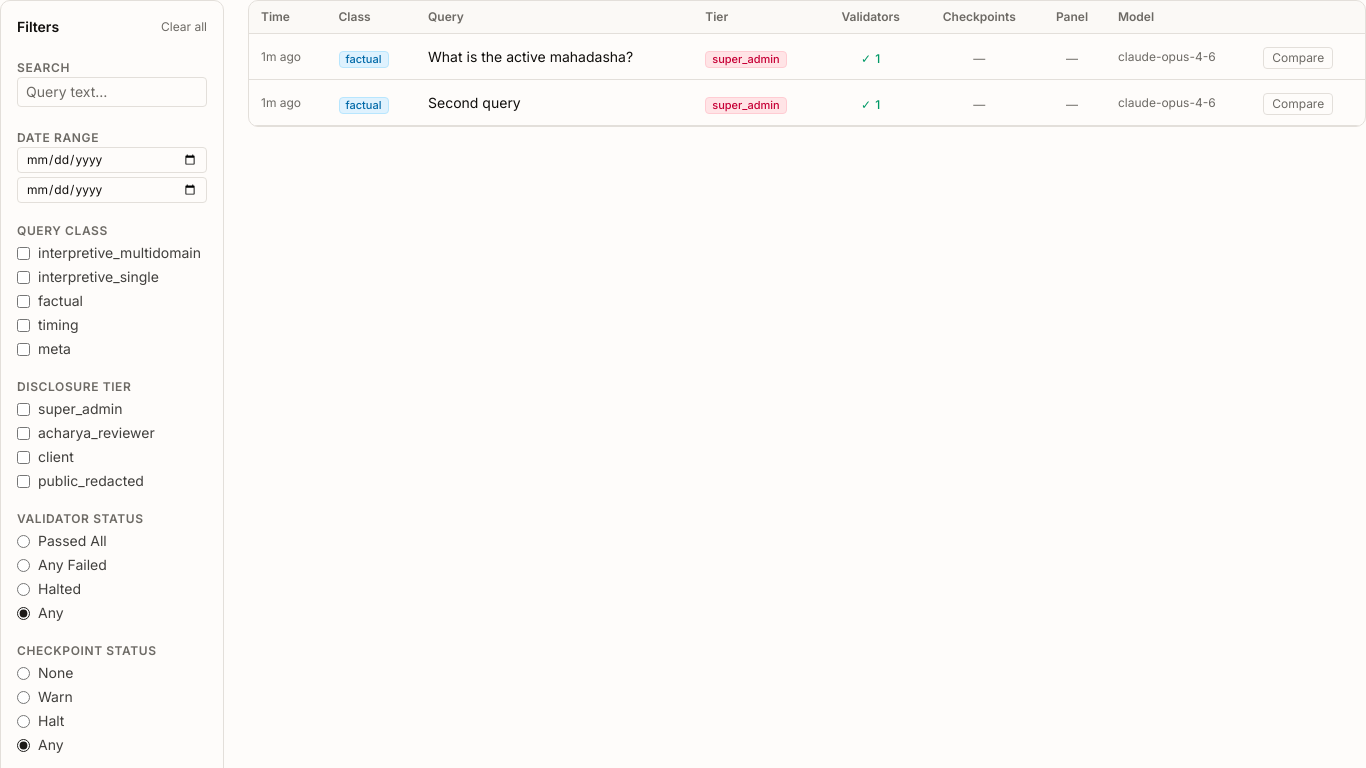
AuditListClient › clears compare selection when Clear clicked
Click the button with aria-label "Add to compare" at (1298, 58), box [1263,47,1333,69]
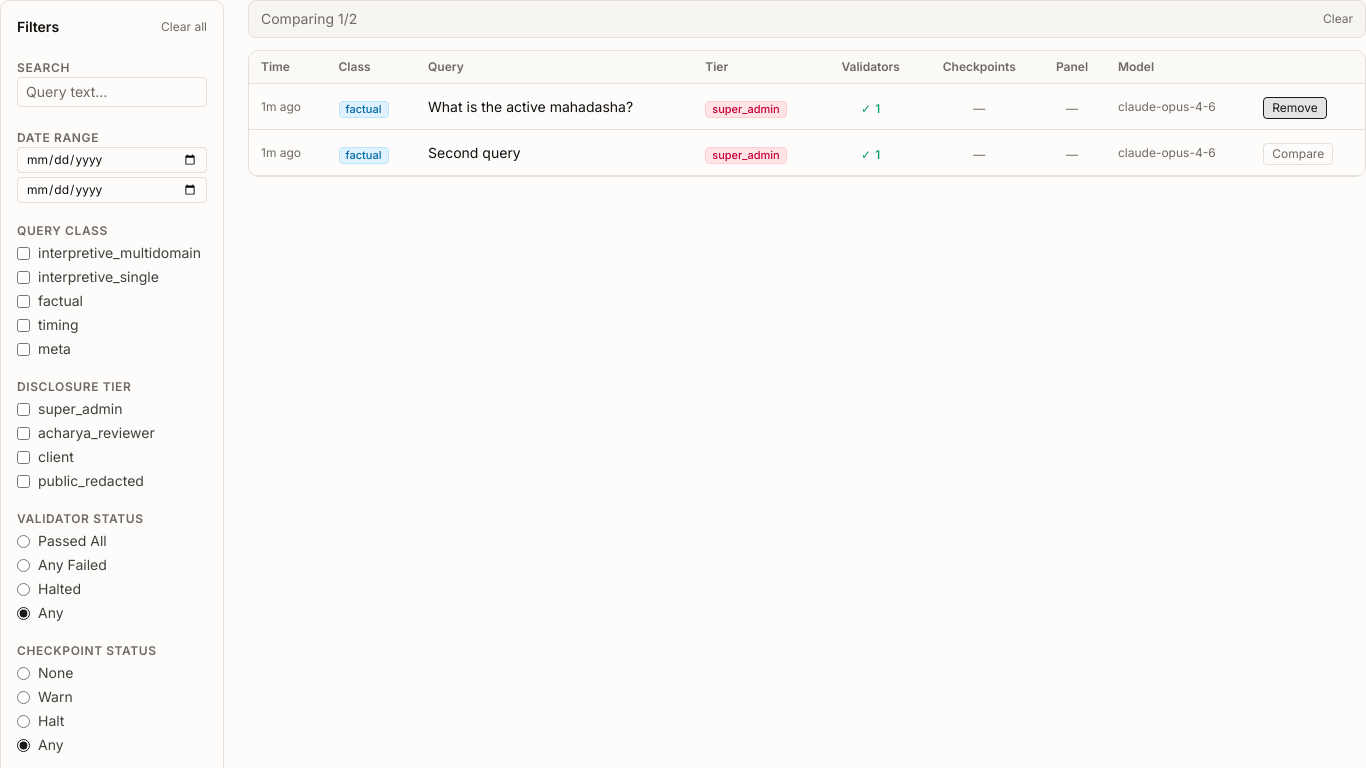
Click the button with aria-label "Add to compare" at (1298, 154), box [1263,143,1333,165]
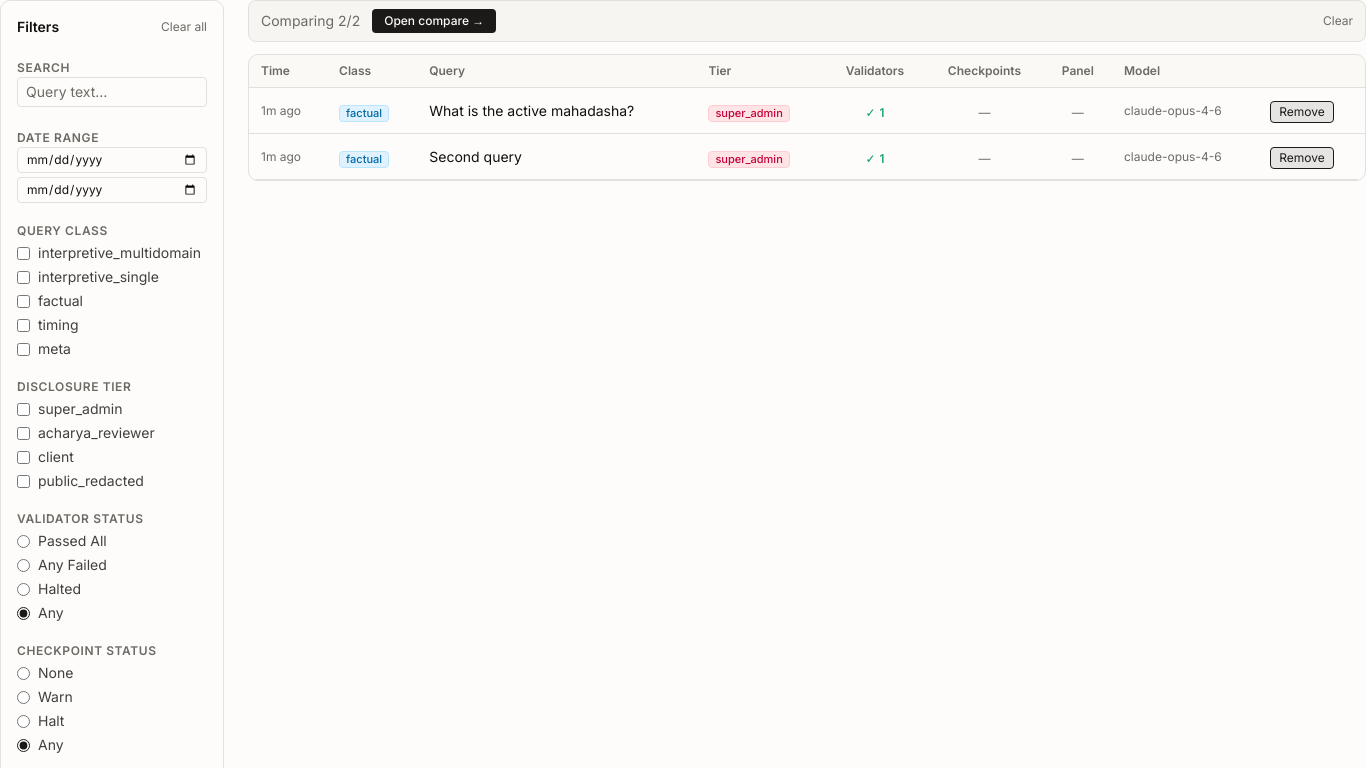
Click the button "Clear" at (1338, 21), box [1323,13,1353,29]
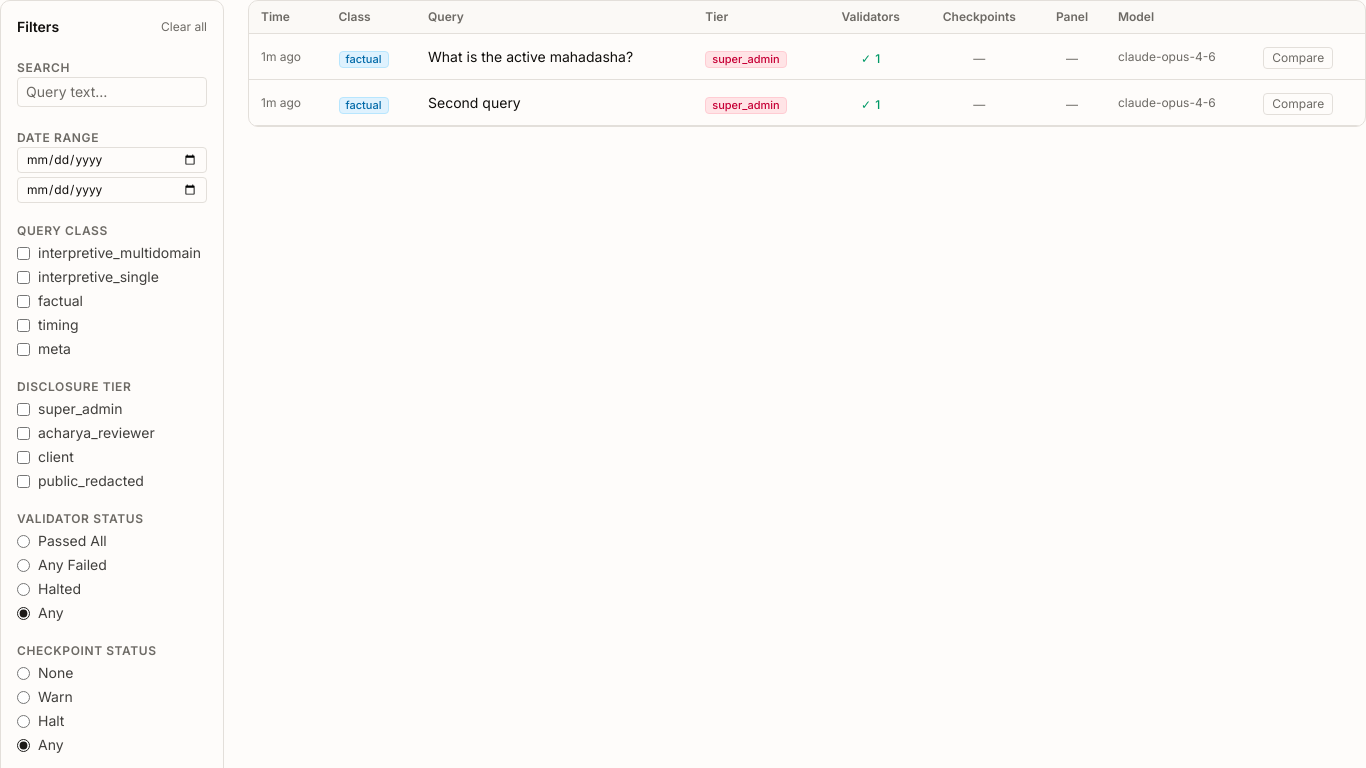
expect the link "Open compare →" is gone: met
